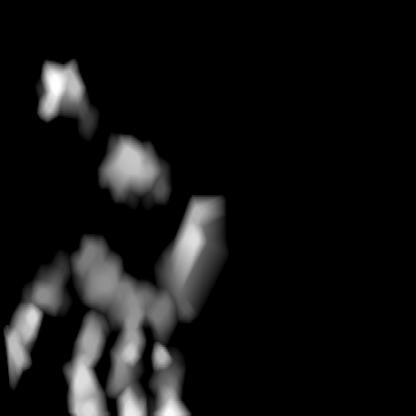fingers: (35, 54, 88, 123)
palm: (3, 325, 184, 414)
thumb: (78, 131, 221, 334)
